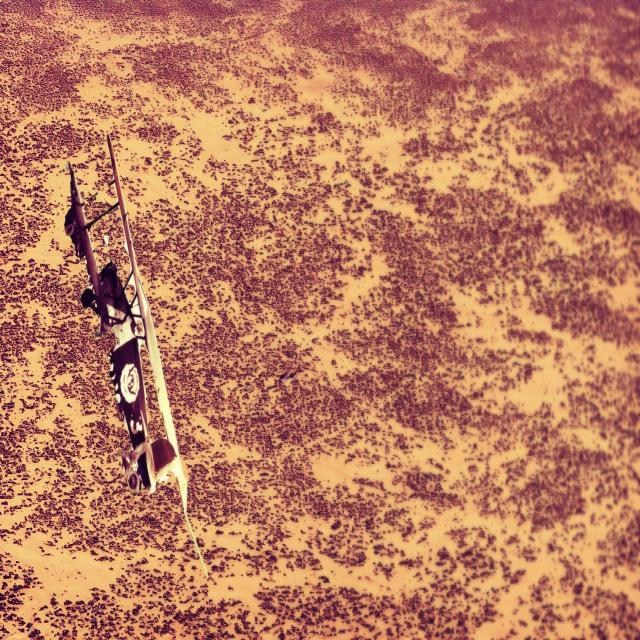airplane: (63, 131, 208, 579)
